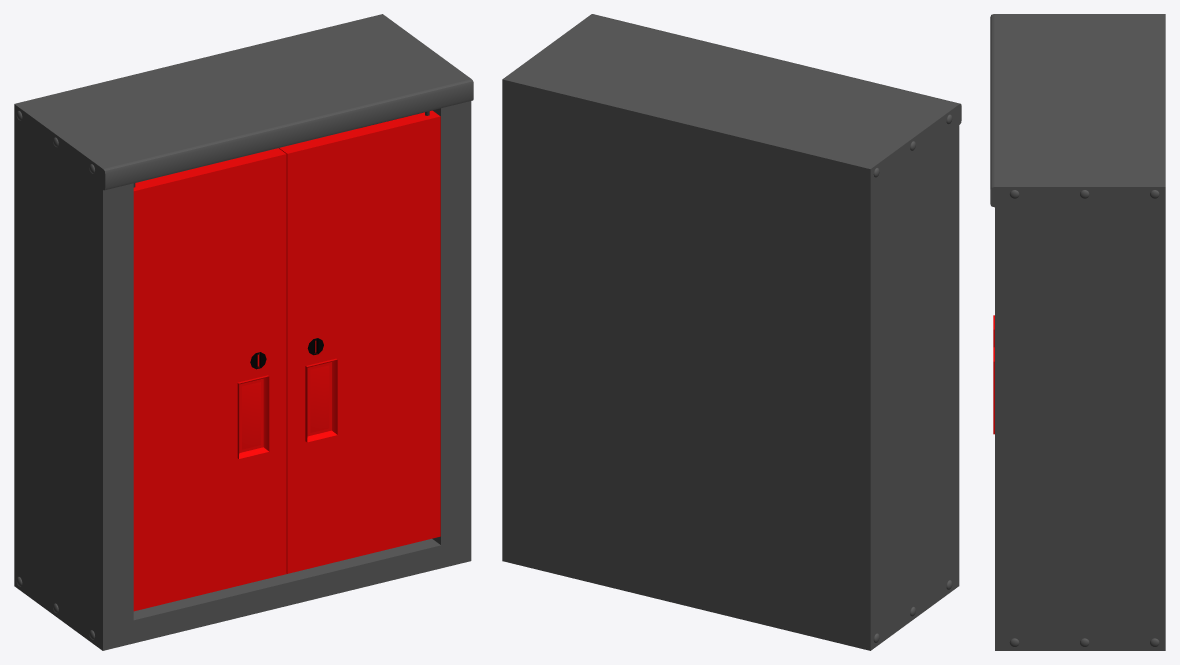
File: Storage Container.fbx
3 views of the same model, side by side, from view 1: azimuth 30°, elevation 25°; view 2: azimuth 150°, elevation 25°; view 3: azimuth 270°, elevation 25° (orthographic). The views are drawn at different scales.
Visible parts, largest first — view 1: Storage Cabinets, Object002, Object001; view 2: Storage Cabinets; view 3: Storage Cabinets.
Part boxes in pixels (box(x1,y1,x2,y2)): Storage Cabinets: box(14, 14, 473, 650); Object002: box(279, 110, 440, 573); Object001: box(133, 148, 286, 611); Storage Cabinets: box(502, 14, 961, 650); Storage Cabinets: box(990, 14, 1165, 650).
Size of the model in its own units: 121 by 51.36 by 150.
